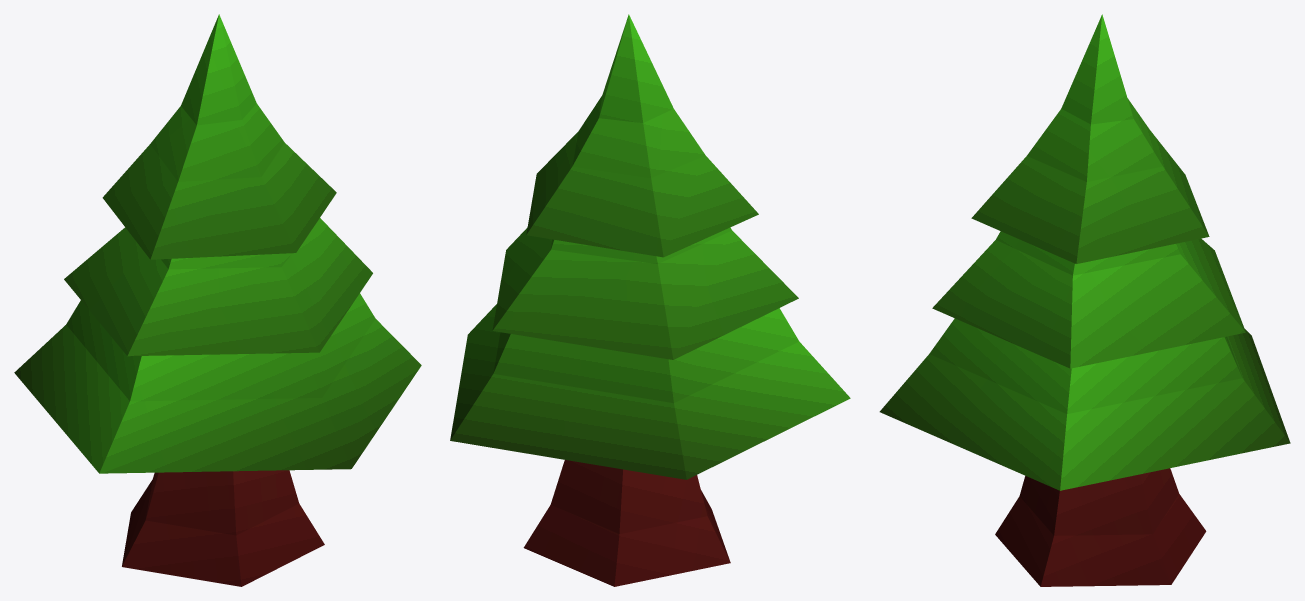
Rendered from piney.gltf.
3 renders of one model, left to right at view 1: azimuth 30°, elevation 25°; view 2: azimuth 150°, elevation 25°; view 3: azimuth 270°, elevation 25°, orthographic.
Visible parts, largest first — view 1: Piney; view 2: Piney; view 3: Piney.
Boxes of the visible parts, x1,y1,x2,y2 form: Piney: (14, 14, 421, 586); Piney: (450, 14, 850, 586); Piney: (879, 14, 1290, 586).
Size of the model in its own units: 2.26 by 3.22 by 2.24.
Materials: 1 (1 with a texture image).
